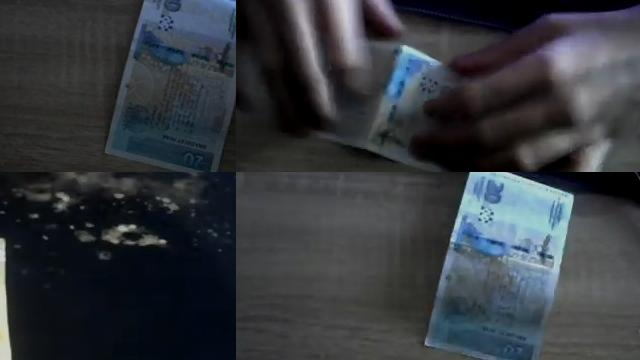20leva: (422, 172, 575, 360), (309, 66, 450, 172)
